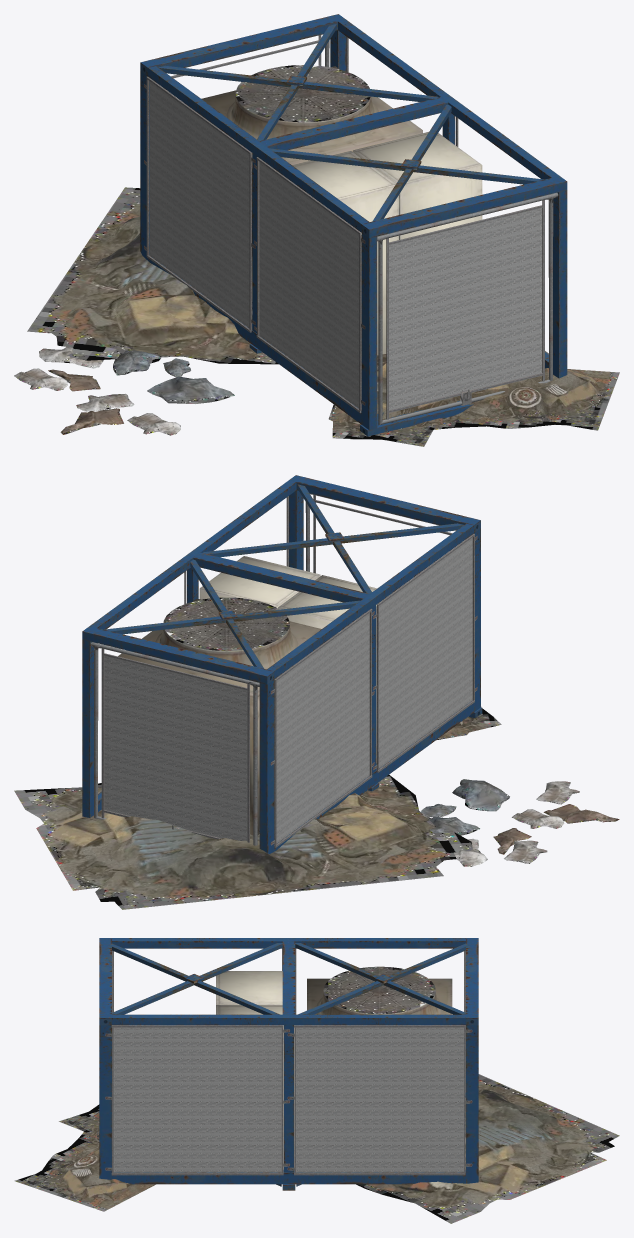
Rendered from underwaterlab_dwelling_600_corridor_double_b.glb.
3 renders of one model, top to bottom at view 1: azimuth 30°, elevation 25°; view 2: azimuth 150°, elevation 25°; view 3: azimuth 270°, elevation 25°, orthographic. The views are drawn at different scales.
Parts seen in each view (by area): view 1: bulk_frame_600_LOD0, junk_pile_b (1), junk_pile_Lshape_c (3), ac_unit_a_300x300, ground_cloth_a (3), computer_cabinet_a (1), computer_cabinet_a; view 2: bulk_frame_600_LOD0, junk_pile_b (1), ac_unit_a_300x300, ground_cloth_a (3), computer_cabinet_a (1), computer_cabinet_a, junk_pile_Lshape_c (3); view 3: bulk_frame_600_LOD0, junk_pile_b (1), junk_pile_Lshape_c (3), ac_unit_a_300x300, computer_cabinet_a, computer_cabinet_a (1).
Part boxes in pixels (x1,y1,x2,y2): bulk_frame_600_LOD0: [140, 14, 567, 436]; junk_pile_b (1): [27, 187, 278, 364]; junk_pile_Lshape_c (3): [328, 354, 619, 446]; ac_unit_a_300x300: [201, 65, 422, 308]; ground_cloth_a (3): [14, 347, 234, 435]; computer_cabinet_a (1): [353, 132, 482, 239]; computer_cabinet_a: [292, 151, 398, 355]; bulk_frame_600_LOD0: [82, 475, 482, 853]; junk_pile_b (1): [14, 775, 472, 909]; ac_unit_a_300x300: [118, 597, 321, 835]; ground_cloth_a (3): [421, 779, 619, 866]; computer_cabinet_a (1): [199, 556, 320, 608]; computer_cabinet_a: [278, 575, 376, 762]; junk_pile_Lshape_c (3): [436, 708, 501, 740]; bulk_frame_600_LOD0: [97, 938, 480, 1190]; junk_pile_b (1): [356, 1074, 619, 1223]; junk_pile_Lshape_c (3): [14, 1104, 155, 1211]; ac_unit_a_300x300: [307, 966, 452, 1014]; computer_cabinet_a: [216, 971, 282, 1004]; computer_cabinet_a (1): [216, 1005, 294, 1169].
Bounding box in the file's own units: 5.37 × 2.08 × 6.6.
7 materials, 7 textured.
